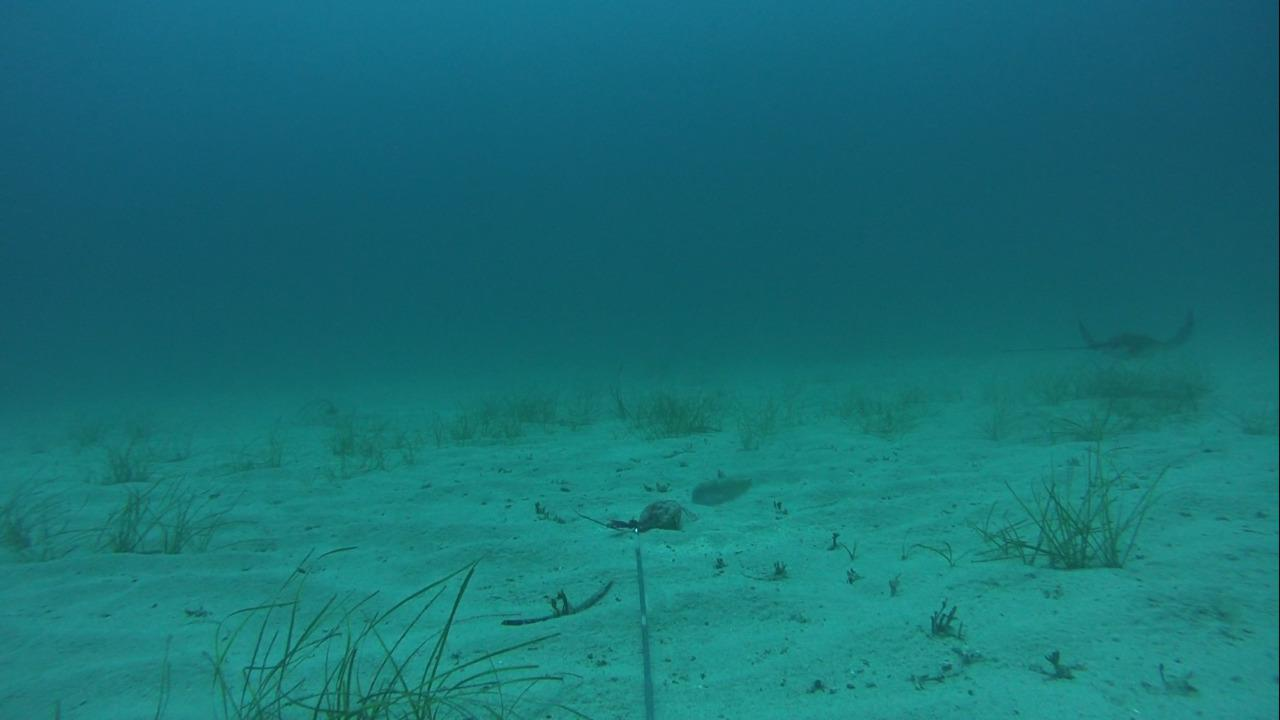myliobatis: (969, 306, 1204, 367)
raor: (686, 473, 764, 509)
